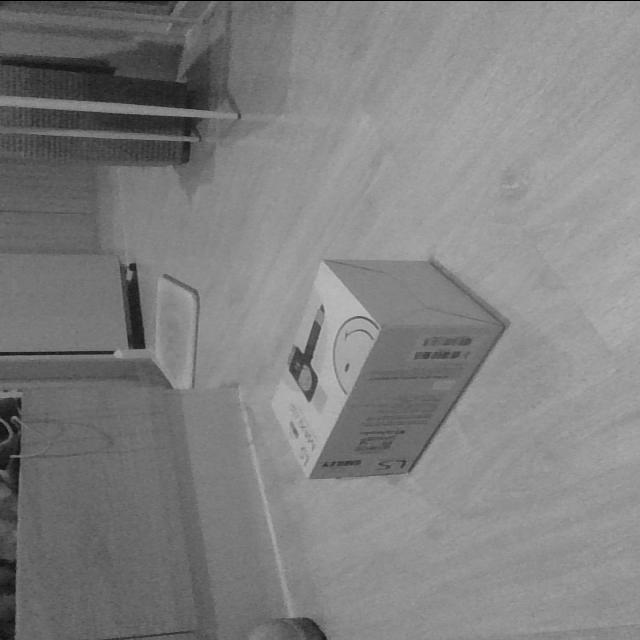Dryer: (264, 255, 508, 480)
